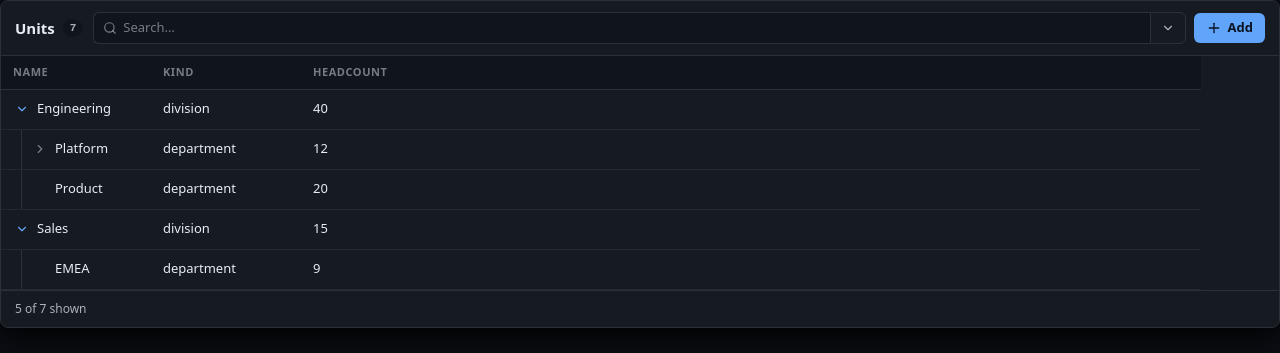
Test case: DataGrid tree mode › search, filters and sorting › counts every kept node, not the roots
The width and height of the screenshot is (1280, 353).
Check: the text "7" is shown, box [63,18,83,37]
Check: the text "5 of 7 shown" is shown, box [15,300,86,318]
Type "Infra" into the search field. click: (632, 28)
box: [123,16,1141,40]
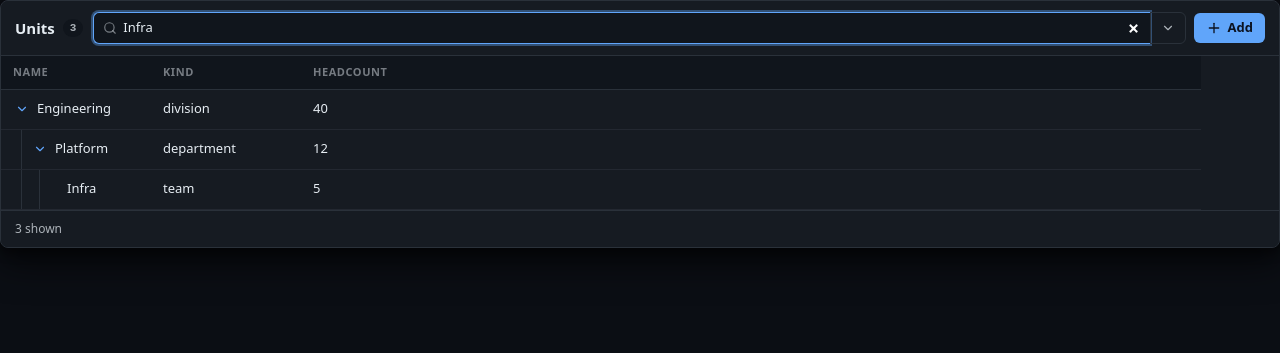
Check: the text "3" is shown, box [63,18,83,37]
Check: the text "3 shown" is shown, box [15,220,62,238]
